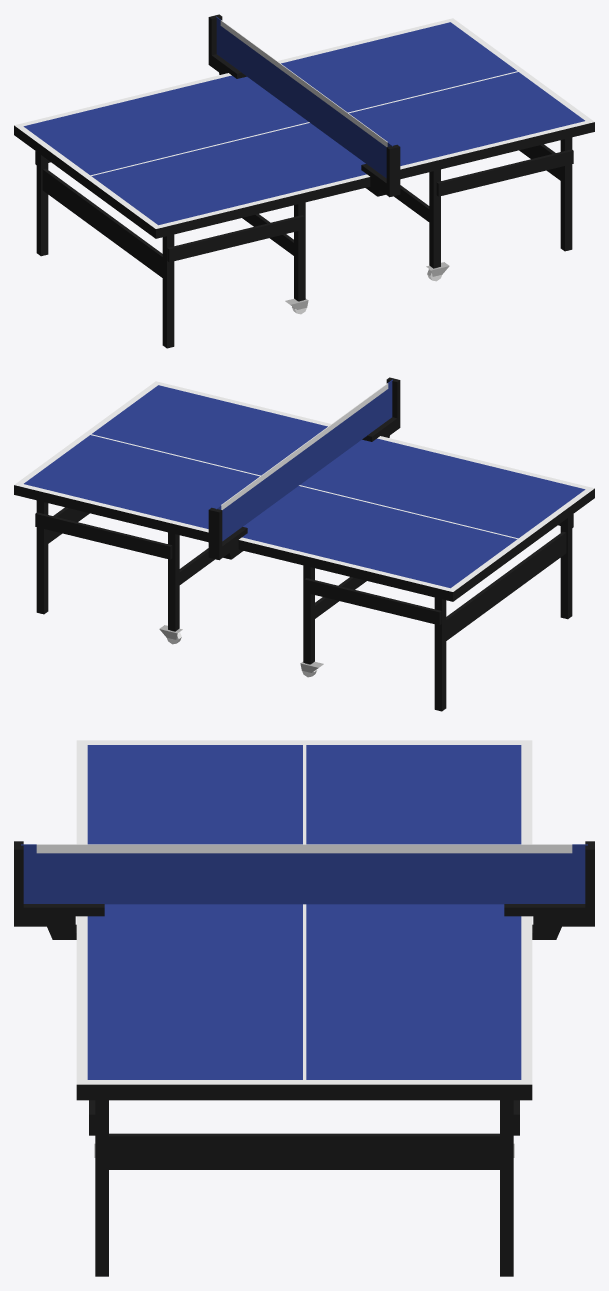
3 renders of one model, top to bottom at view 1: azimuth 30°, elevation 25°; view 2: azimuth 150°, elevation 25°; view 3: azimuth 270°, elevation 25°, orthographic. The views are drawn at different scales.
Visible parts, largest first — view 1: Node; view 2: Node; view 3: Node.
Part boxes in pixels (<box>): Node: <box>14,14,594,348</box>; Node: <box>14,377,594,711</box>; Node: <box>14,740,594,1276</box>.
Size of the model in its own units: 9.31 by 3.45 by 6.64.
